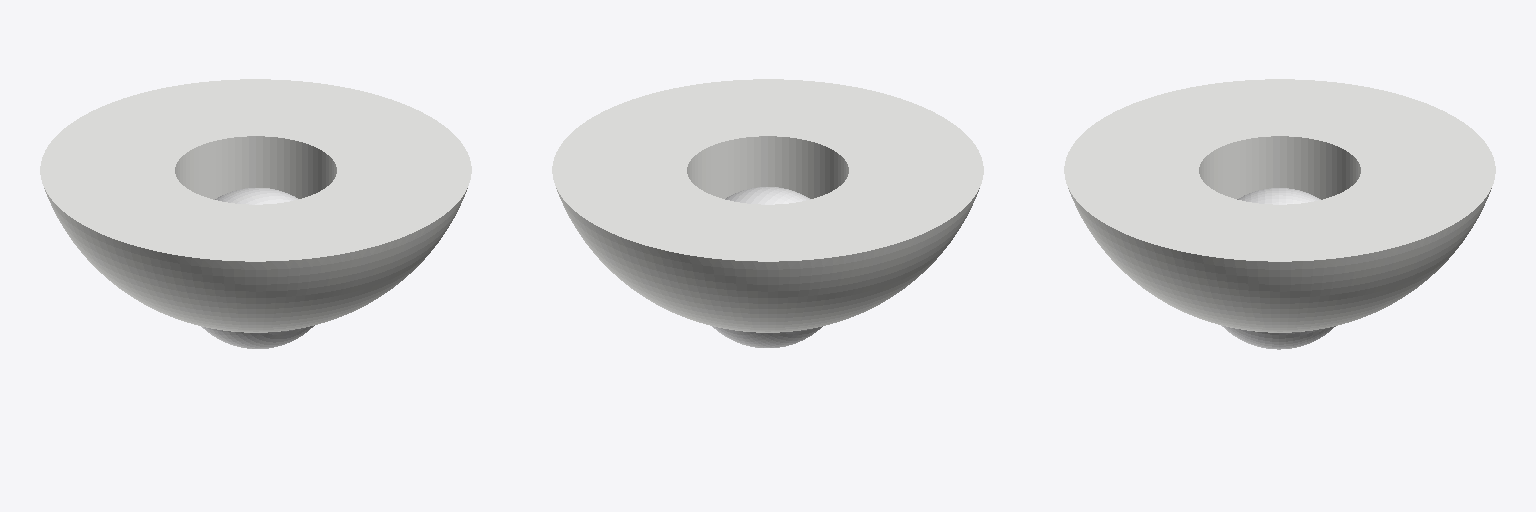
The model's file is caster.obj.
The picture shows the model from 3 angles: view 1: azimuth 30°, elevation 25°; view 2: azimuth 150°, elevation 25°; view 3: azimuth 270°, elevation 25°; orthographic projection.
Parts seen in each view (by area): view 1: Body2, Body1; view 2: Body2, Body1; view 3: Body2, Body1.
Boxes of the visible parts, x1,y1,x2,y2 form: Body2: [40, 79, 471, 332]; Body1: [201, 188, 314, 348]; Body2: [552, 79, 983, 332]; Body1: [712, 187, 822, 347]; Body2: [1064, 79, 1495, 332]; Body1: [1221, 188, 1335, 349].
Size of the model in its own units: 40 by 17.5 by 39.99.